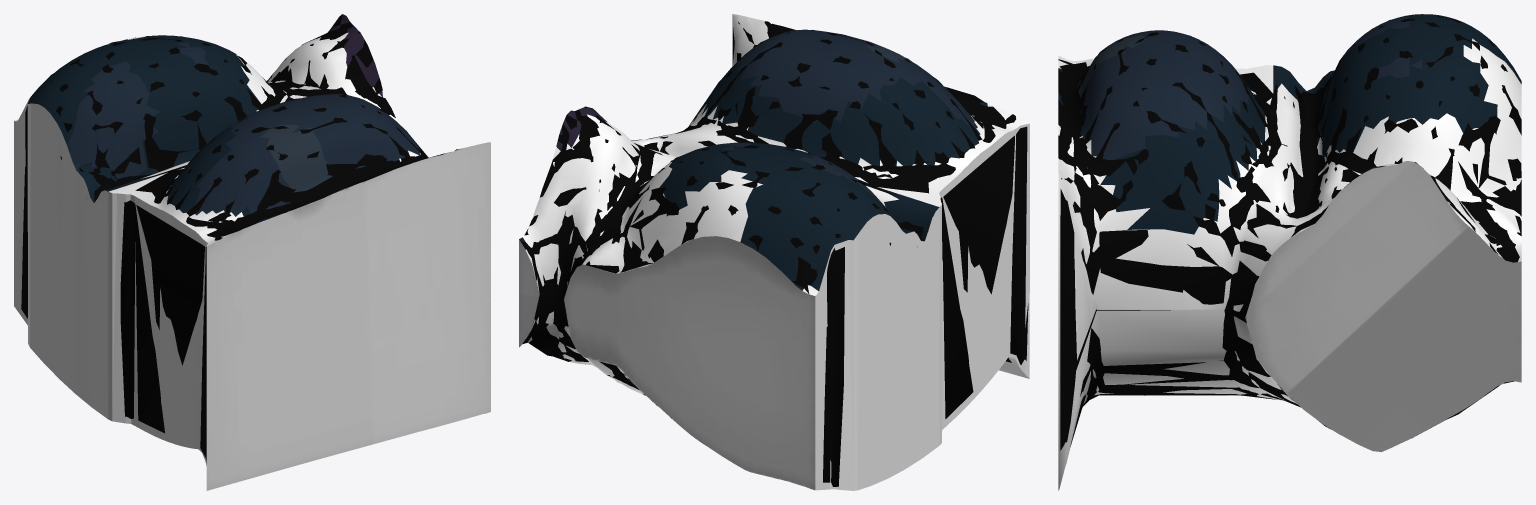
Rendered from newshn-41.glb.
3 views of the same model, side by side, from view 1: azimuth 30°, elevation 25°; view 2: azimuth 150°, elevation 25°; view 3: azimuth 270°, elevation 25° (orthographic). The views are drawn at different scales.
Visible parts, largest first — view 1: newshn-41, newshn-41_outline; view 2: newshn-41, newshn-41_outline; view 3: newshn-41, newshn-41_outline.
Part boxes in pixels (x1,y1,x2,y2): newshn-41: [14, 14, 490, 490]; newshn-41_outline: [21, 14, 458, 462]; newshn-41: [519, 14, 1029, 490]; newshn-41_outline: [520, 21, 1028, 486]; newshn-41: [1058, 14, 1521, 490]; newshn-41_outline: [1058, 14, 1521, 450].
Bounding box in the file's own units: 2 × 2.04 × 2.33.
Materials: 11 (10 with a texture image).
